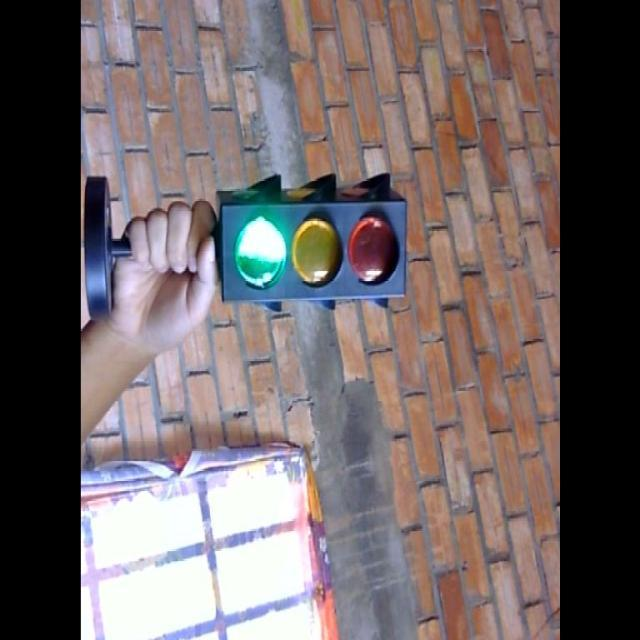green light: (225, 214, 292, 290)
